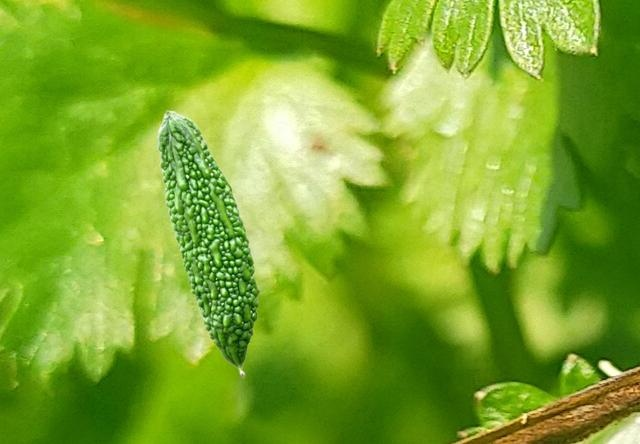ampalaya: (155, 108, 262, 379)
